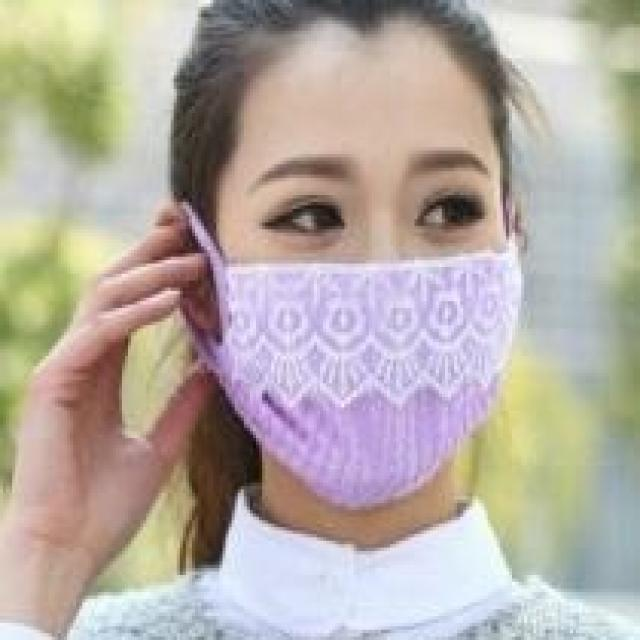mask: (207, 27, 518, 486)
